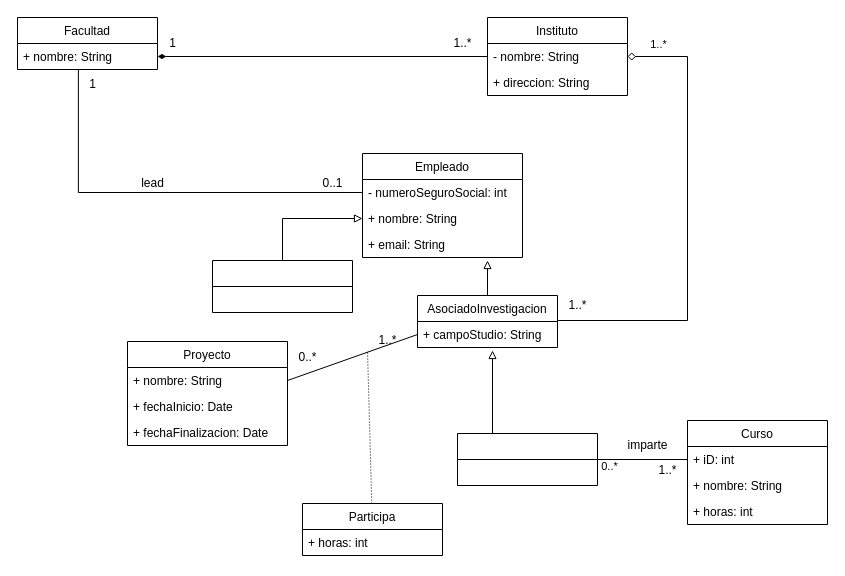
Image size: 845x576. Some labels were removed from this diagram. The centre of each missing label's shape, as x and y in pixels:
"Conferencista" goes at pixel 527 459.
"PersonaIAdministrivo" goes at pixel 282 286.
